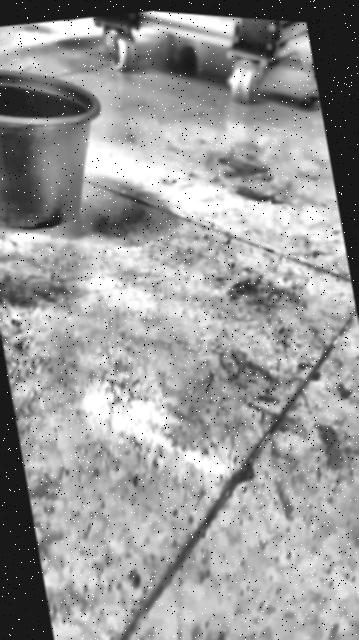pot: (0, 50, 118, 243)
